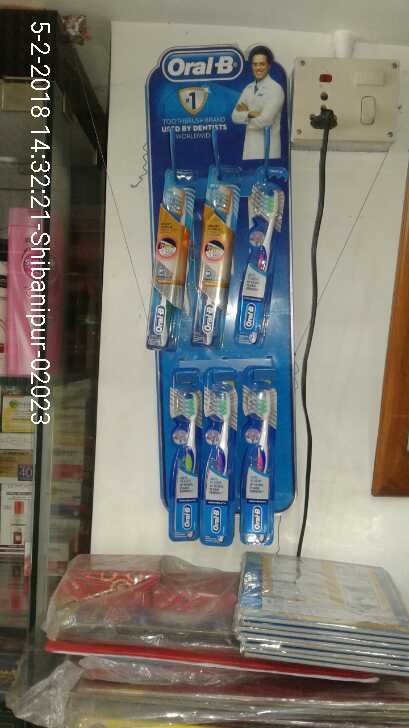oralb: (242, 171, 287, 351), (190, 174, 231, 353), (151, 170, 188, 352), (201, 371, 239, 545), (239, 372, 275, 545), (175, 377, 208, 544)
